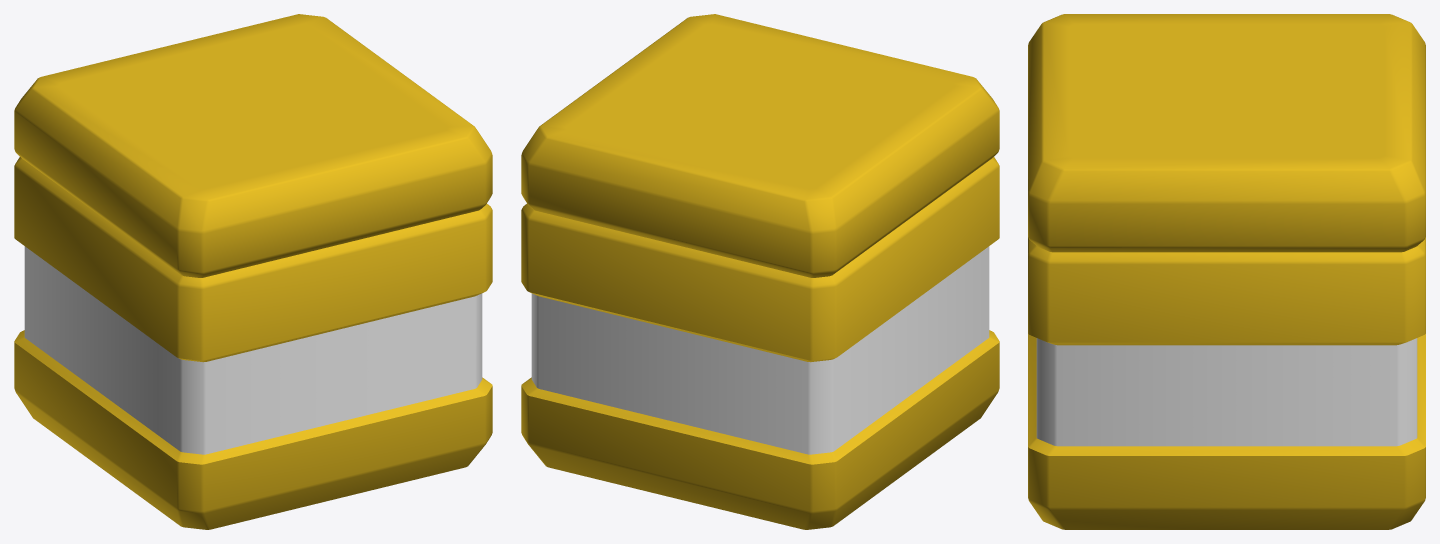
The model's file is 11_Box_yellow.fbx.
The picture shows the model from 3 angles, left to right: view 1: azimuth 30°, elevation 25°; view 2: azimuth 150°, elevation 25°; view 3: azimuth 270°, elevation 25°; orthographic projection. The views are drawn at different scales.
Parts seen in each view (by area): view 1: 11_Box_yellow; view 2: 11_Box_yellow; view 3: 11_Box_yellow.
Boxes of the visible parts, x1,y1,x2,y2 form: 11_Box_yellow: (14,14,492,529); 11_Box_yellow: (521,14,999,529); 11_Box_yellow: (1028,14,1425,529).
Bounding box in the file's own units: 100 × 100 × 100.
